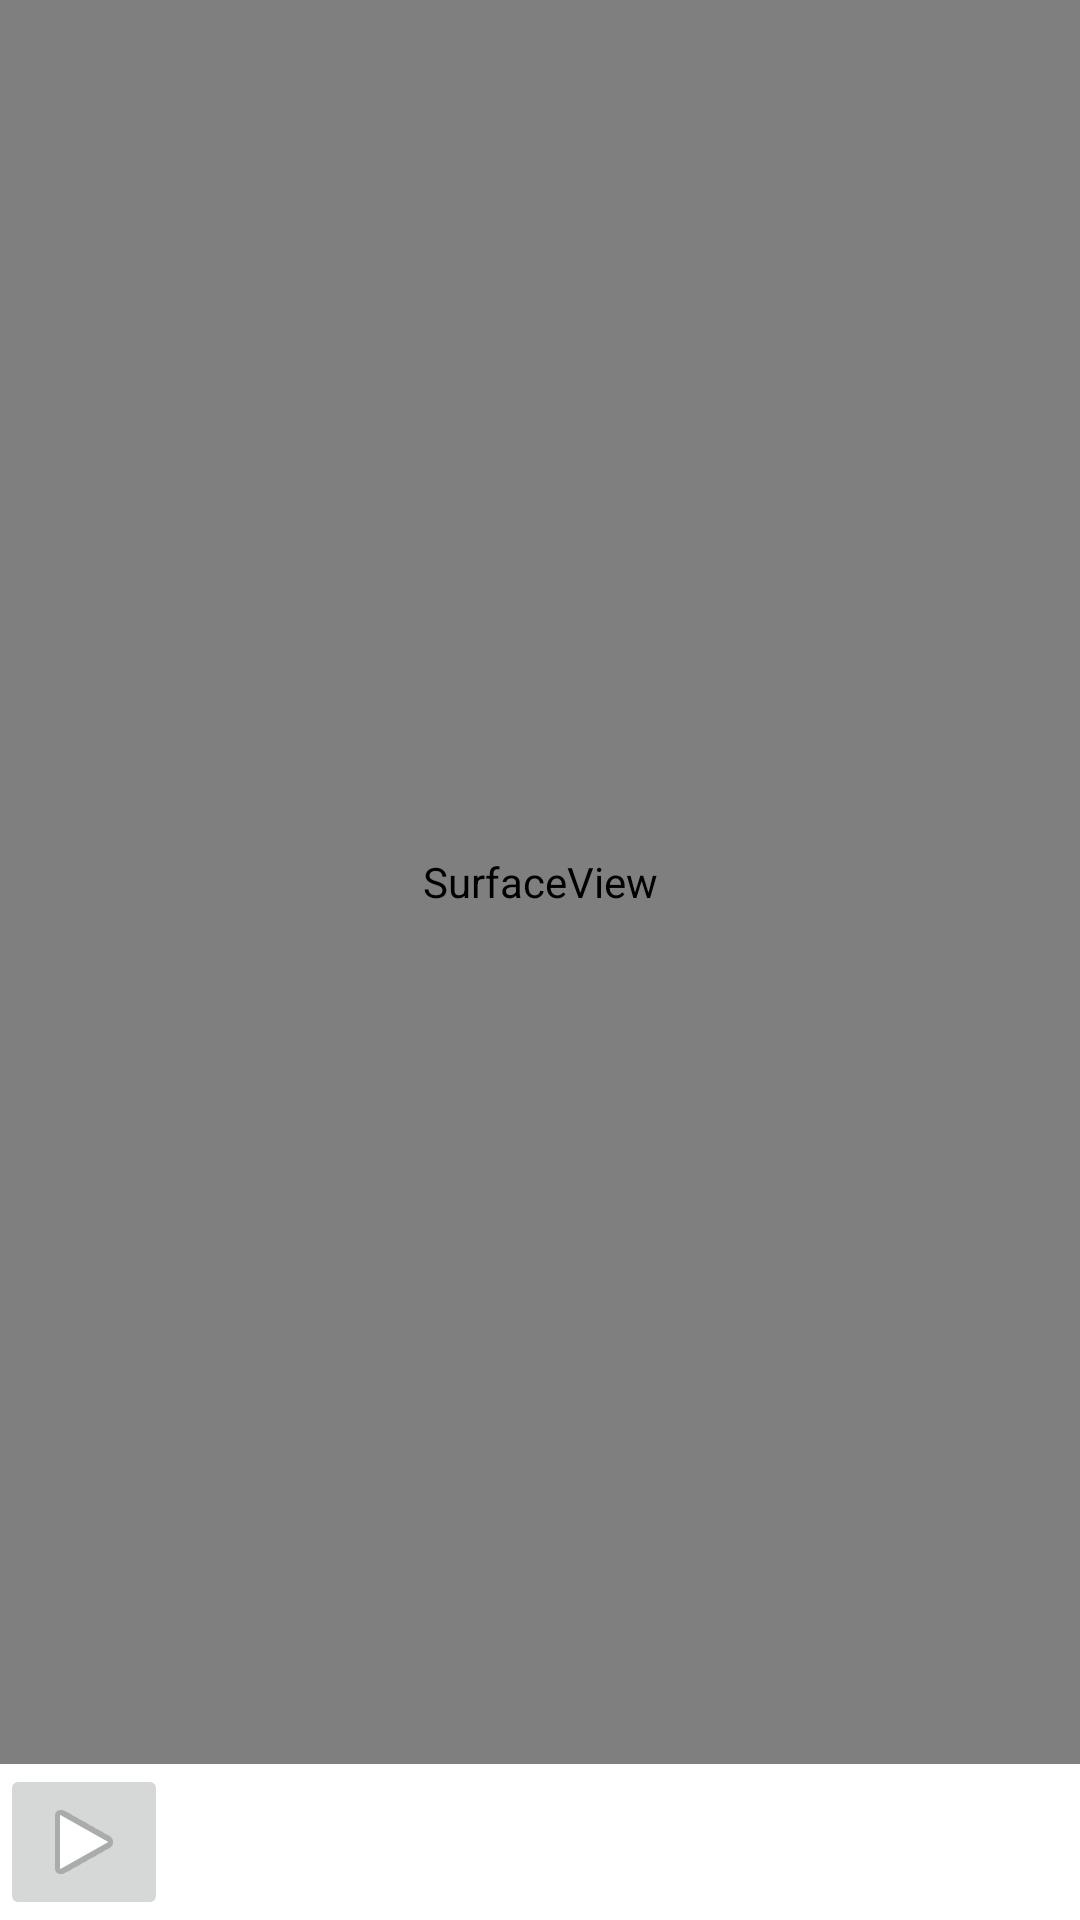

Locate icon controls on the screen. Image size 1080w x 1920h, boxes as (left=x1, top=y1, right=x2, bottom=y2).
play: (left=12, top=1782, right=156, bottom=1902)
